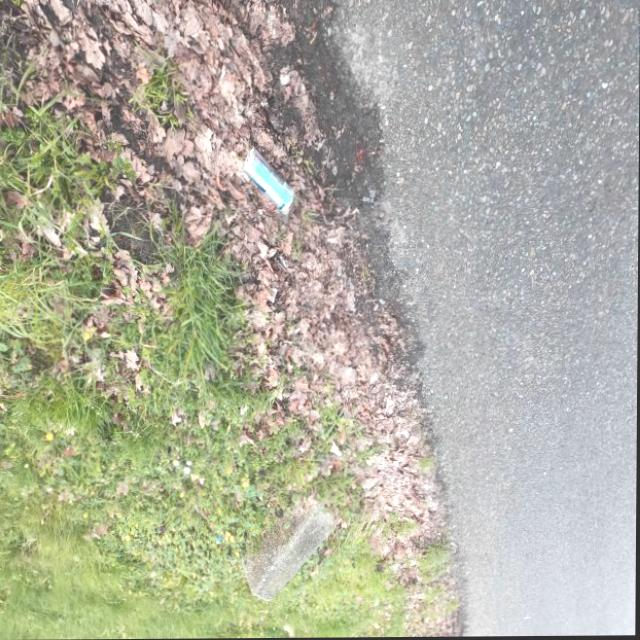Can-Metal: (241, 144, 296, 217)
